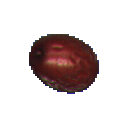gd: (11, 24, 112, 105)
